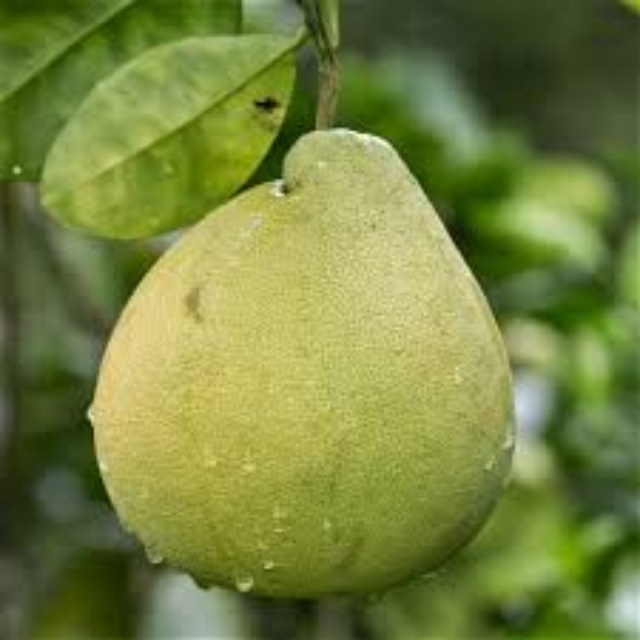buoi: (85, 126, 522, 606)
